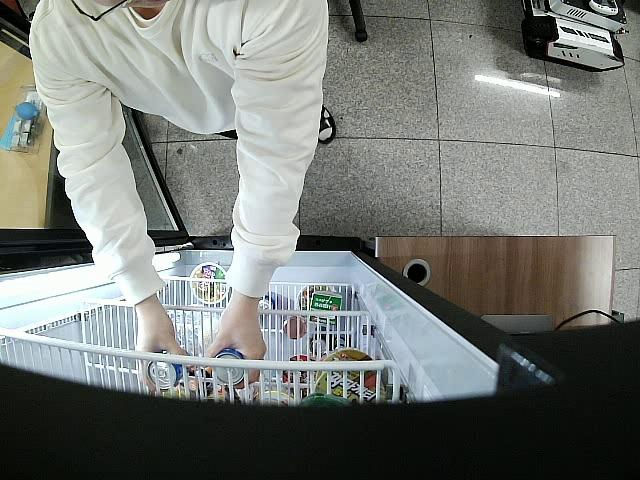00_hand: (207, 309, 266, 390), (134, 313, 184, 390)
15_letsbe: (148, 347, 191, 390), (209, 347, 247, 386)
